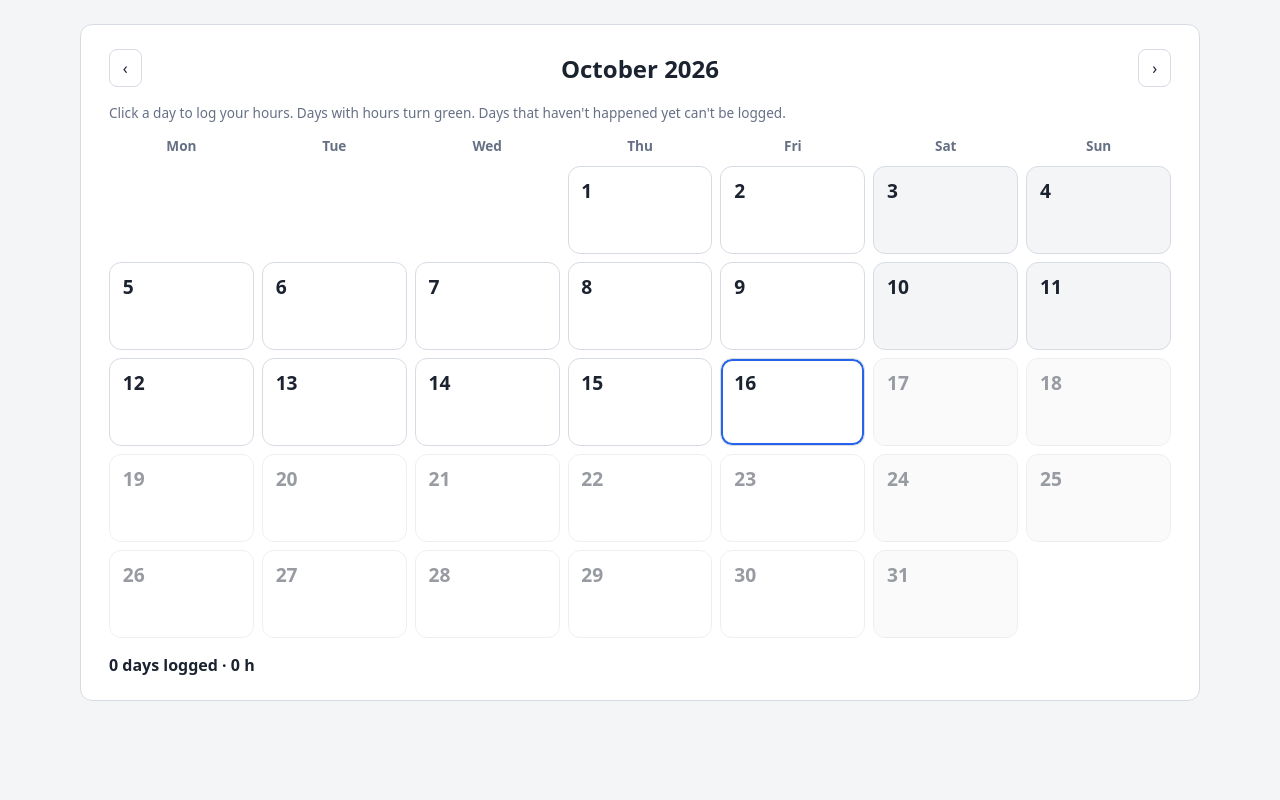
Test: days in the future › can be browsed freely in both directions, and the past stays open
Step 1. Click the button named "Next month" → click(1155, 68), box [1138,49,1171,87]
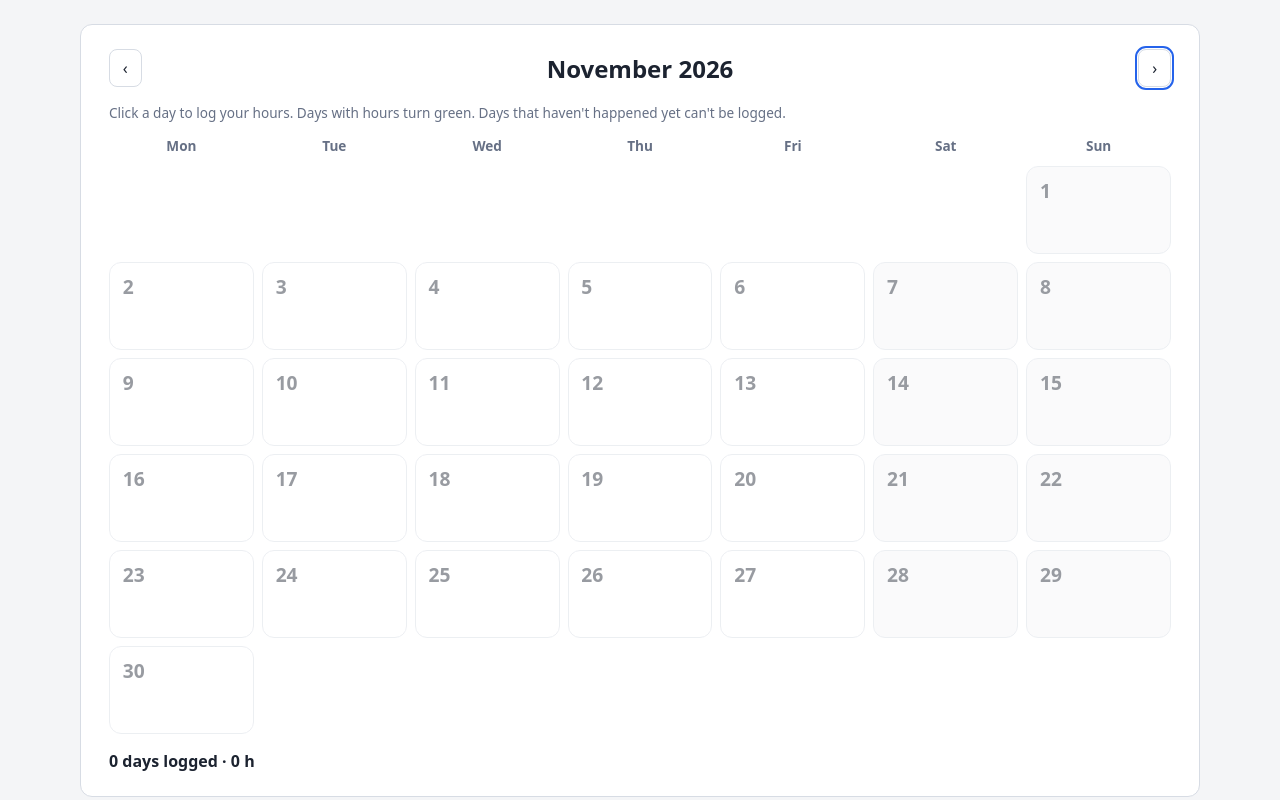
Step 2. Click the button named "Next month" → click(1155, 68), box [1138,49,1171,87]
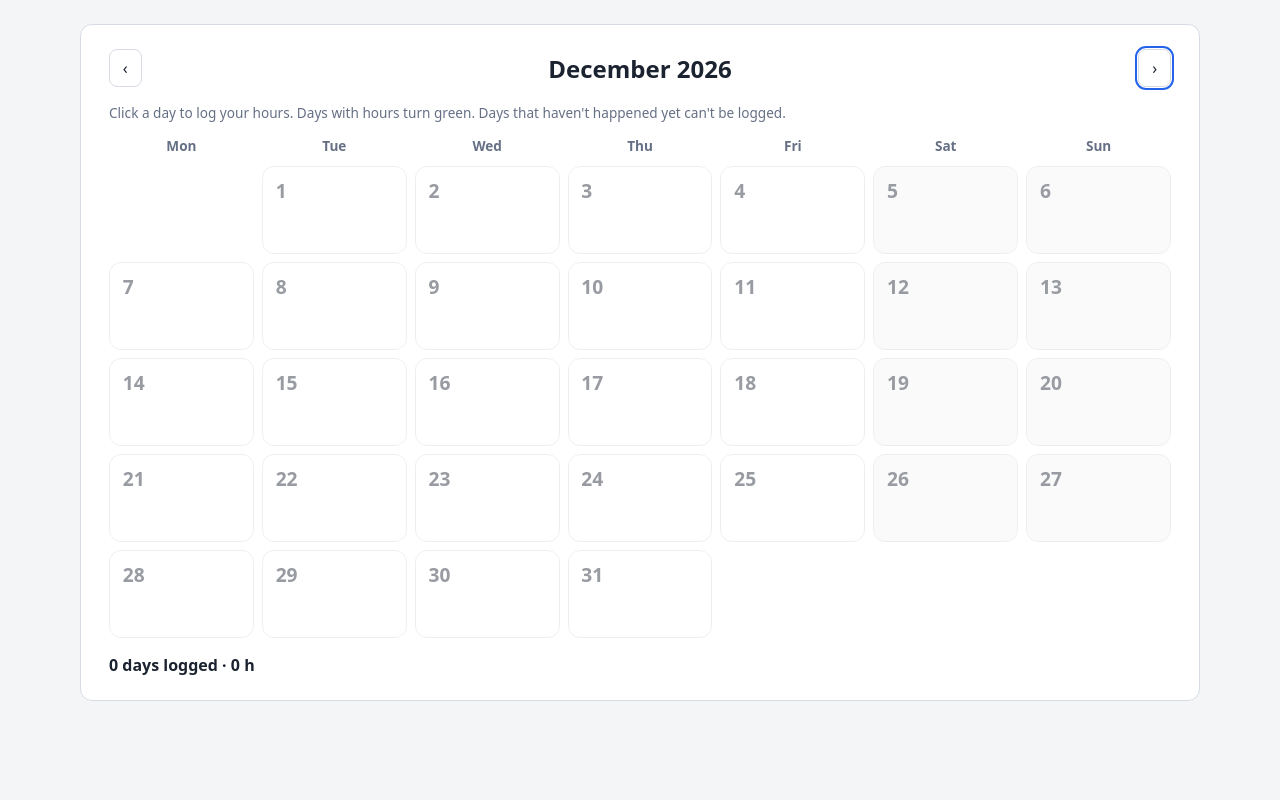
Expected: the heading "December 2026" is shown, [548,52,732,85]
Step 3. Click the button named "Previous month" → click(125, 68), box [109,49,142,87]
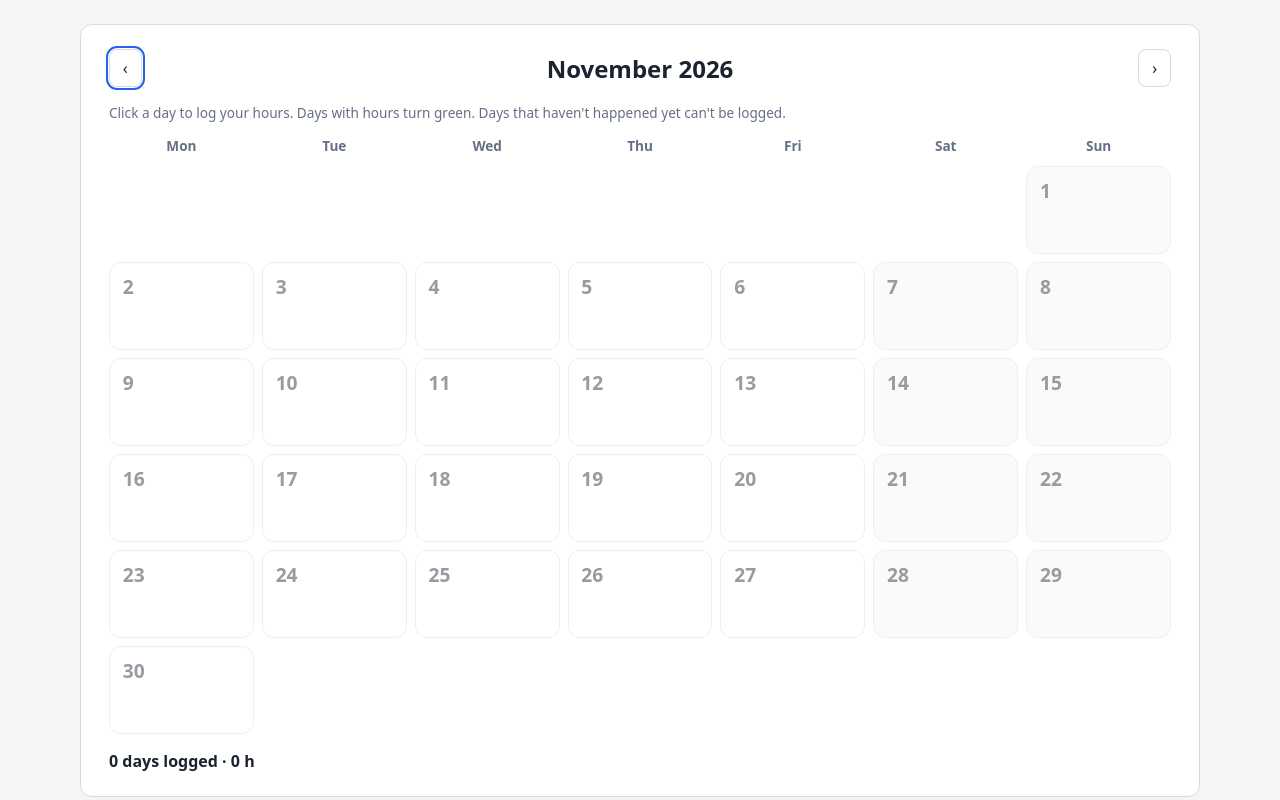
Step 4. Click the button named "Previous month" → click(125, 68), box [109,49,142,87]
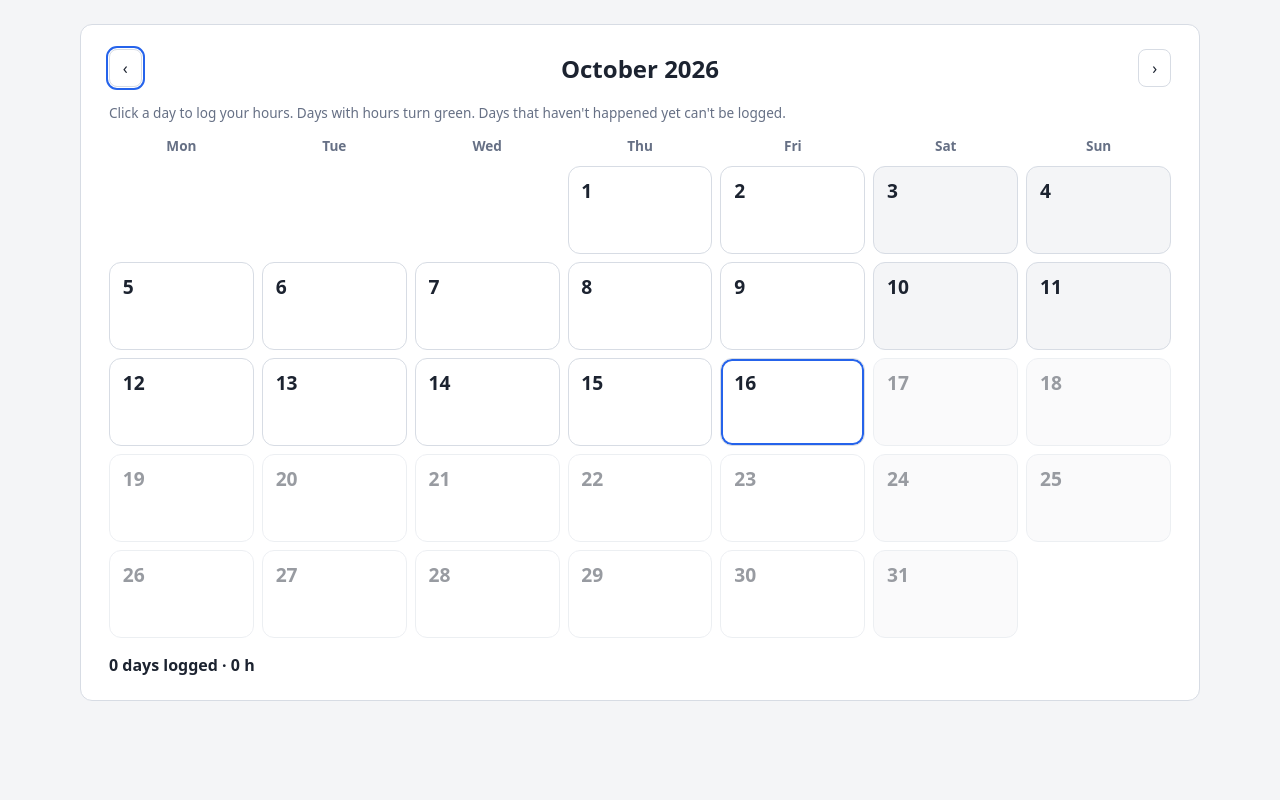
Step 5. Click the button named "Previous month" → click(125, 68), box [109,49,142,87]
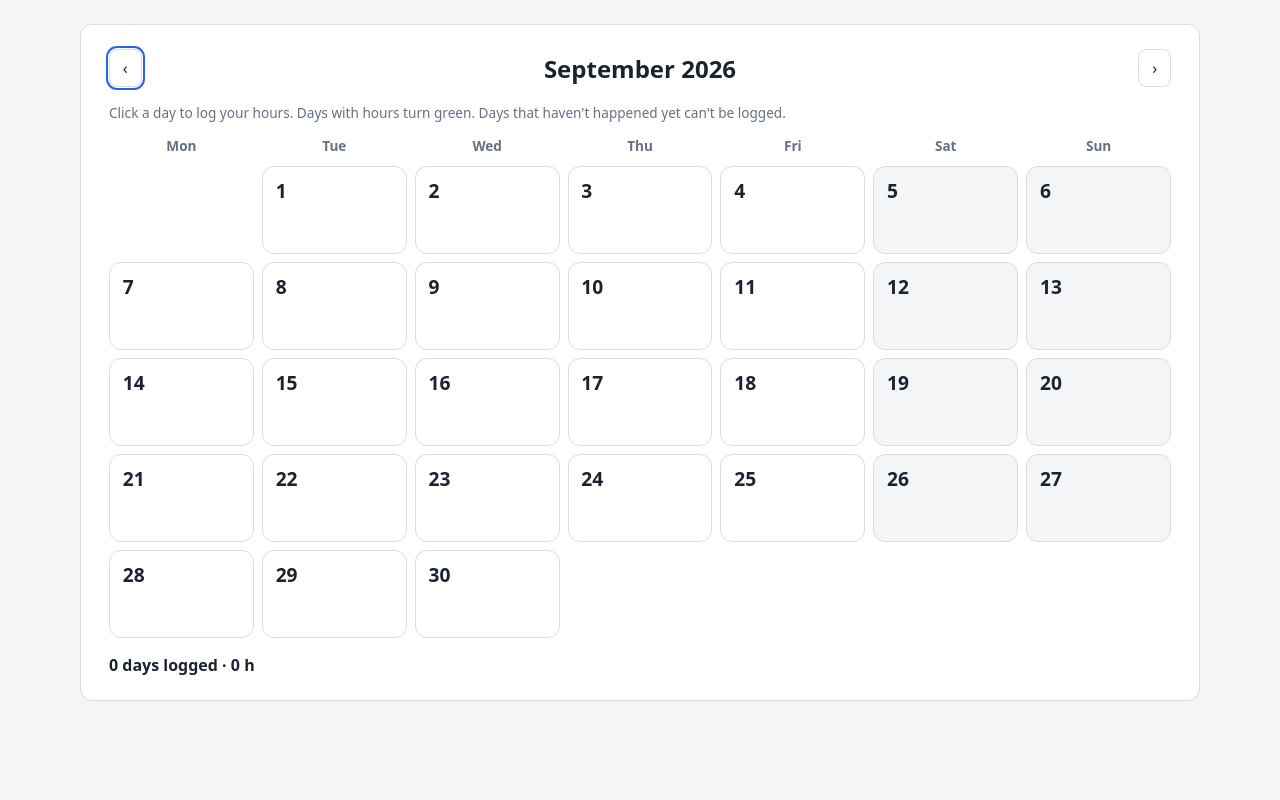
Expected: the heading "September 2026" is shown, [544,52,736,85]
